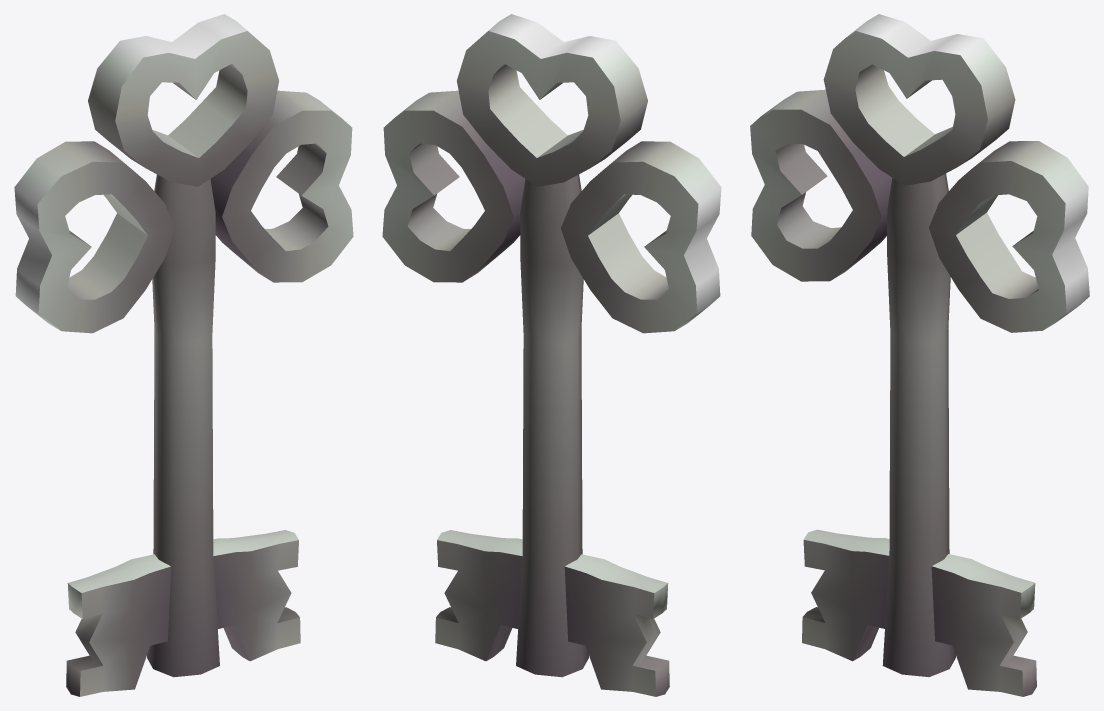
Rendered from Skeleton_Key_04.glb.
The picture shows the model from 3 angles, left to right: view 1: azimuth 30°, elevation 25°; view 2: azimuth 150°, elevation 25°; view 3: azimuth 330°, elevation 25°; orthographic projection.
Parts seen in each view (by area): view 1: Skeleton_Key_04; view 2: Skeleton_Key_04; view 3: Skeleton_Key_04.
Boxes of the visible parts, x1=… form: Skeleton_Key_04: x1=14, y1=14, x2=353, y2=696; Skeleton_Key_04: x1=382, y1=14, x2=721, y2=696; Skeleton_Key_04: x1=750, y1=14, x2=1089, y2=696.
Size of the model in its own units: 0.453 by 0.8666 by 0.086.
Materials: 1 (1 with a texture image).
